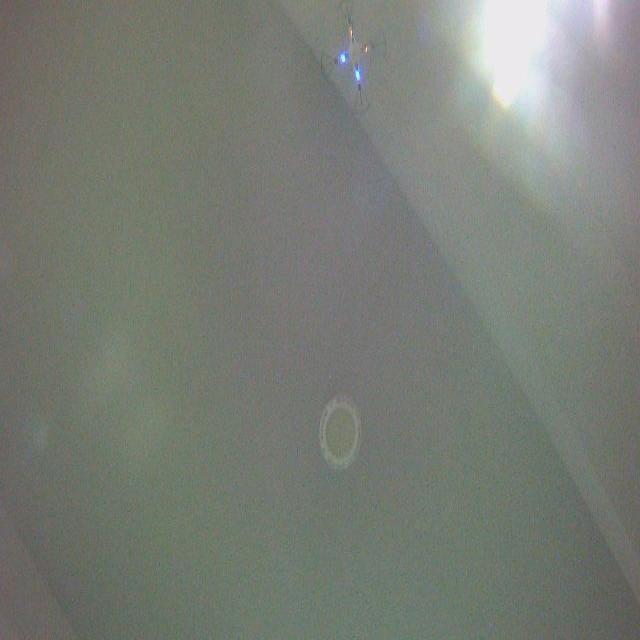drone: (318, 0, 390, 117)
